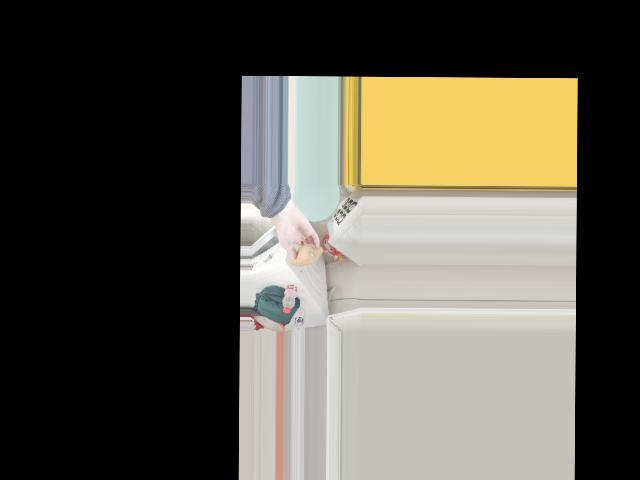sweet_potato: (290, 240, 319, 266)
